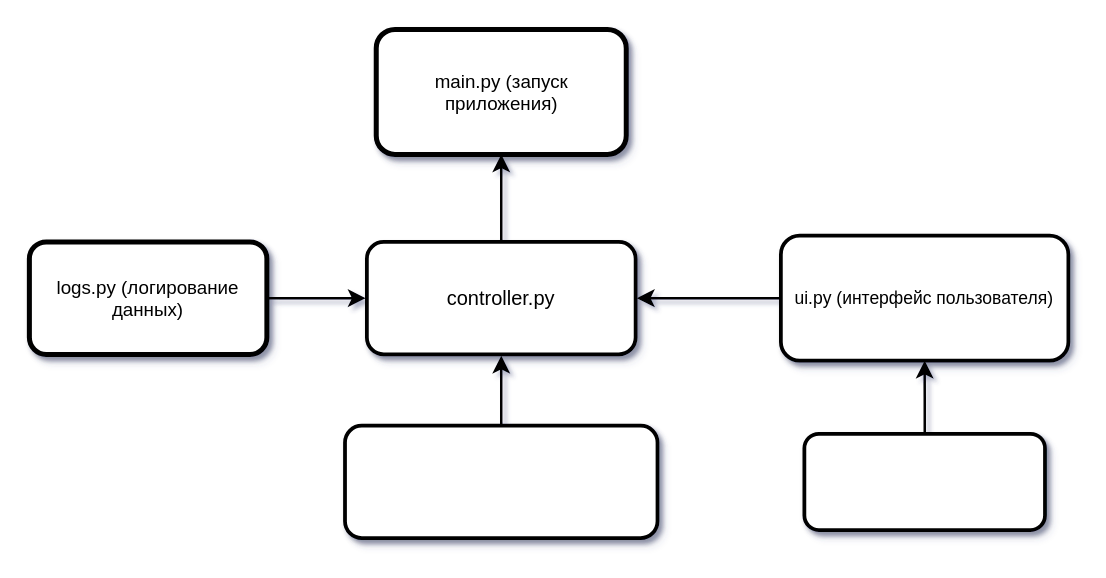
Image size: 1106x578. Some labels were removed from this diagram. Each missing label, with the centre of its shape:
calculator.py (калькулятор комплексных и рациональных чисел): (x=502, y=483)
check_number.py (проверка ввода): (x=925, y=483)
